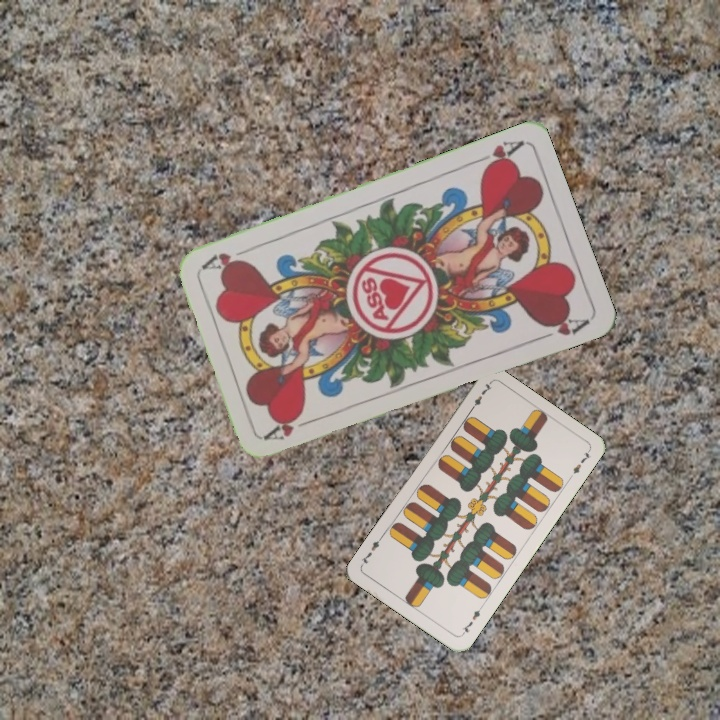E7: (466, 379, 495, 415), (457, 602, 485, 638)
HA: (468, 136, 525, 174), (261, 413, 319, 443)
